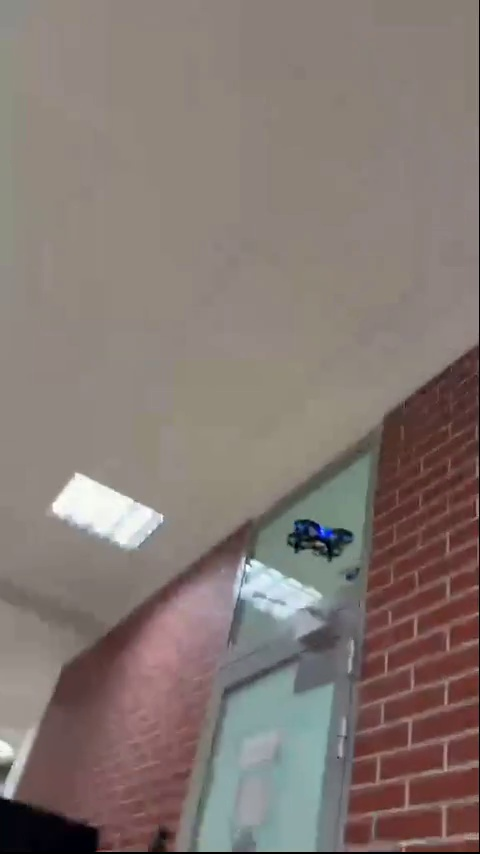drone: (288, 514, 358, 565)
